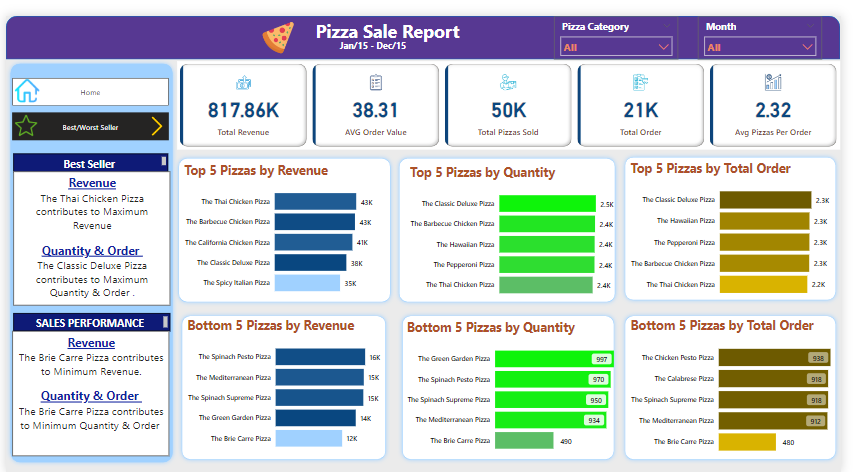

This screenshot's page, from the dashboard's own definition file:
{"tool":"powerbi","page":{"name":"Best/Worst Seller","canvas":[1500,820],"ordinal":1},"visuals":[{"type":"cardVisual","fields":{"Data":["pizza_sales.Total Revenue","pizza_sales.AVG Order Value","pizza_sales.Total Pizzas Sold","pizza_sales.Total Order","pizza_sales.Avg Pizzas Per Order"]},"box":[307.7,81.2,1191,159],"z":0},{"type":"shape","box":[0,0,1498.7,77.8],"z":1000},{"type":"textbox","box":[551.4,0,321.5,55.3],"z":2000},{"type":"textbox","box":[594.6,38,191.9,43.2],"z":3000},{"type":"shape","box":[301.8,247.1,397.2,275.2],"z":4000},{"type":"shape","box":[0,77.8,307.7,732.9],"z":5000},{"type":"textbox","box":[12.9,247.1,278.6,34.3],"z":6000},{"type":"textbox","box":[12.5,278.4,281.5,240.8],"z":7000},{"type":"textbox","box":[12.5,533.2,281.5,32.8],"z":8000},{"type":"textbox","box":[12.1,567,281.7,224.7],"z":9000},{"type":"slicer","fields":{"Values":["pizza_sales.pizza_category"]},"box":[985.3,0,223,77.8],"z":10000},{"type":"slicer","fields":{"Values":["pizza_sales.Order Month"]},"box":[1242.9,0,223,77.8],"z":11000},{"type":"shape","box":[703.7,530.1,397.2,275.2],"z":12000},{"type":"shape","box":[699,247.1,405,275.2],"z":13000},{"type":"shape","box":[1104,245.5,395.6,273.7],"z":14000},{"type":"shape","box":[1104,530.1,395.6,275.2],"z":15000},{"type":"shape","box":[308.1,530.1,383.1,275.2],"z":16000},{"type":"barChart","title":"Top 5 Pizzas by Quantity","fields":{"Category":["pizza_sales.pizza_name"],"Y":["pizza_sales.Total Pizzas Sold"]},"box":[720.9,264.3,383.1,254.9],"z":17000},{"type":"barChart","title":"Bottom 5 Pizzas by Quantity","fields":{"Category":["pizza_sales.pizza_name"],"Y":["pizza_sales.Total Pizzas Sold"]},"box":[714.6,544.2,383.1,254.9],"z":18000},{"type":"barChart","title":"Top 5 Pizzas by Total Order","fields":{"Category":["pizza_sales.pizza_name"],"Y":["pizza_sales.Total Order"]},"box":[1116.9,257.1,382.9,262.4],"z":19000},{"type":"barChart","title":"Bottom 5 Pizzas by Total Order","fields":{"Category":["pizza_sales.pizza_name"],"Y":["pizza_sales.Total Order"]},"box":[1116.9,539.5,383.1,262.7],"z":20000},{"type":"barChart","title":"Bottom 5 Pizzas by Revenue","fields":{"Category":["pizza_sales.pizza_name"],"Y":["pizza_sales.Total Revenue"]},"box":[320.6,539.5,375.3,254.9],"z":21000},{"type":"barChart","title":"Top 5 Pizzas by Revenue","fields":{"Category":["pizza_sales.pizza_name"],"Y":["pizza_sales.Total Revenue"]},"box":[315.9,259.6,375.3,254.9],"z":22000},{"type":"pageNavigator","box":[12.1,172.9,281.7,50.1],"z":23000},{"type":"pageNavigator","box":[12.1,110.6,281.7,50.1],"z":24000},{"type":"image","box":[248.9,169.4,44.9,57],"z":25000},{"type":"image","box":[12.1,169.4,50.1,53.6],"z":26000},{"type":"image","box":[12.1,103.7,53.6,60.5],"z":27000},{"type":"image","box":[454.6,0,69.1,77.8],"z":28000}]}

Visuals, with their boxes in screenshot pixels (x1, y1, x2, y2), scaled from the page's 1500x820 canvas onto the 854x472 screenshot:
cardVisual - pizza_sales.Total Revenue x pizza_sales.AVG Order Value: [x1=175, y1=47, x2=853, y2=138]
shape: [x1=0, y1=0, x2=853, y2=45]
textbox: [x1=314, y1=0, x2=497, y2=32]
textbox: [x1=339, y1=22, x2=448, y2=47]
shape: [x1=172, y1=142, x2=398, y2=301]
shape: [x1=0, y1=45, x2=175, y2=467]
textbox: [x1=7, y1=142, x2=166, y2=162]
textbox: [x1=7, y1=160, x2=167, y2=299]
textbox: [x1=7, y1=307, x2=167, y2=326]
textbox: [x1=7, y1=326, x2=167, y2=456]
slicer - pizza_sales.pizza_category: [x1=561, y1=0, x2=688, y2=45]
slicer - pizza_sales.Order Month: [x1=708, y1=0, x2=835, y2=45]
shape: [x1=401, y1=305, x2=627, y2=464]
shape: [x1=398, y1=142, x2=629, y2=301]
shape: [x1=629, y1=141, x2=853, y2=299]
shape: [x1=629, y1=305, x2=853, y2=464]
shape: [x1=175, y1=305, x2=394, y2=464]
"Top 5 Pizzas by Quantity" barChart: [x1=410, y1=152, x2=629, y2=299]
"Bottom 5 Pizzas by Quantity" barChart: [x1=407, y1=313, x2=625, y2=460]
"Top 5 Pizzas by Total Order" barChart: [x1=636, y1=148, x2=853, y2=299]
"Bottom 5 Pizzas by Total Order" barChart: [x1=636, y1=311, x2=853, y2=462]
"Bottom 5 Pizzas by Revenue" barChart: [x1=183, y1=311, x2=396, y2=457]
"Top 5 Pizzas by Revenue" barChart: [x1=180, y1=149, x2=394, y2=296]
pageNavigator: [x1=7, y1=100, x2=167, y2=128]
pageNavigator: [x1=7, y1=64, x2=167, y2=93]
image: [x1=142, y1=98, x2=167, y2=130]
image: [x1=7, y1=98, x2=35, y2=128]
image: [x1=7, y1=60, x2=37, y2=95]
image: [x1=259, y1=0, x2=298, y2=45]
